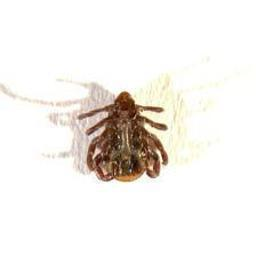Rhipicephalus sanguineus: (78, 91, 168, 183)
